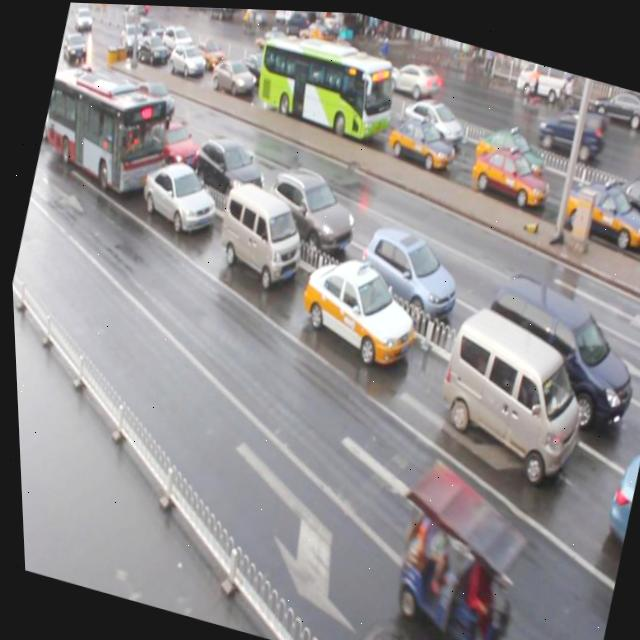car: (287, 241, 427, 373), (345, 216, 467, 333), (257, 157, 365, 258), (132, 150, 224, 240), (185, 126, 274, 211), (556, 168, 640, 254), (465, 136, 555, 209), (590, 437, 640, 557), (382, 105, 460, 174), (473, 118, 554, 184), (396, 90, 467, 148), (590, 162, 640, 244), (146, 109, 207, 173), (94, 78, 146, 131), (322, 68, 376, 118), (207, 51, 260, 100), (126, 75, 180, 122), (39, 90, 73, 144), (166, 38, 208, 80), (238, 48, 274, 86), (133, 31, 169, 67), (192, 36, 226, 71), (160, 20, 195, 53)
truck: (419, 295, 598, 490), (462, 260, 640, 439), (205, 173, 314, 293)
van: (29, 57, 186, 207), (245, 24, 401, 146)
